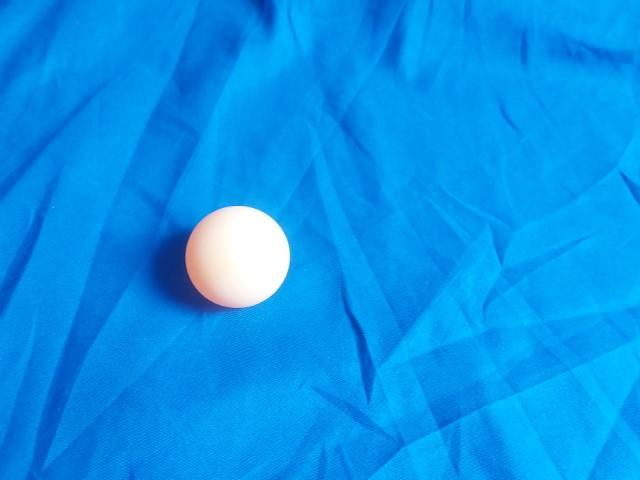oball: (176, 203, 299, 318)
